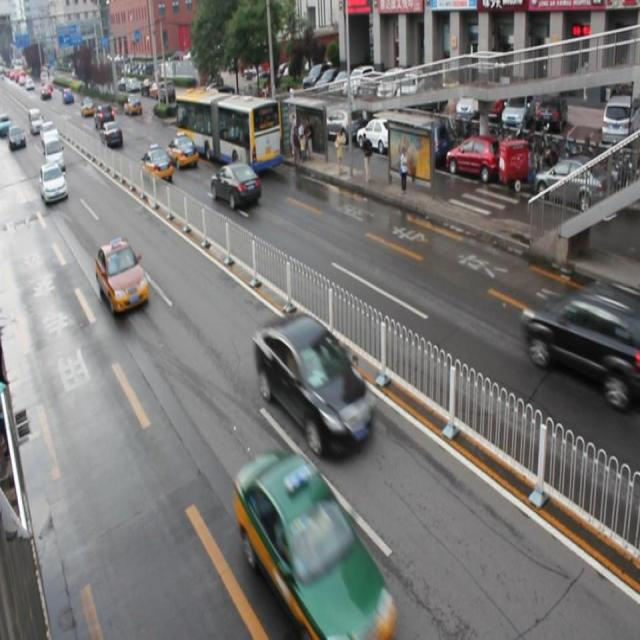car: (234, 451, 392, 640), (254, 316, 377, 454), (520, 286, 640, 407), (96, 234, 149, 316), (211, 163, 261, 209), (140, 143, 173, 183), (39, 160, 68, 204), (167, 133, 199, 169)
van: (176, 87, 282, 175)
